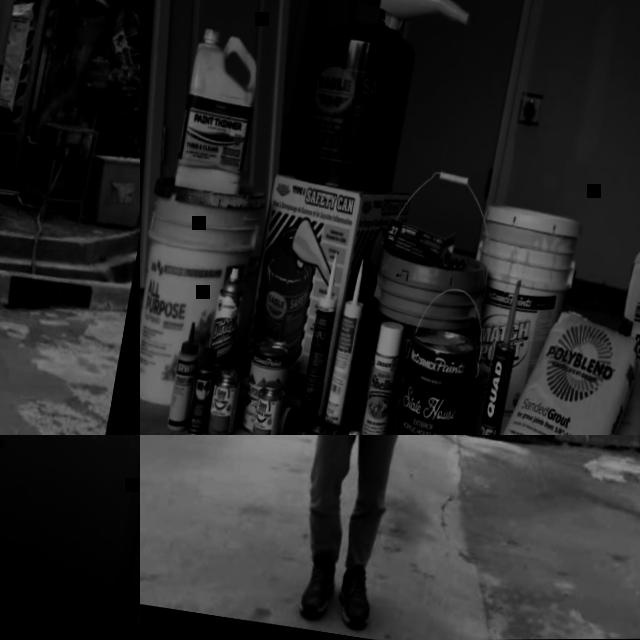Person: (222, 435, 530, 640)
